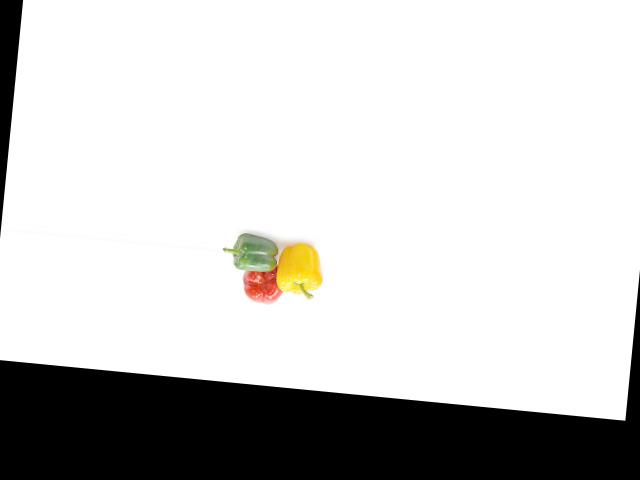bell_pepper: (225, 231, 289, 279)
